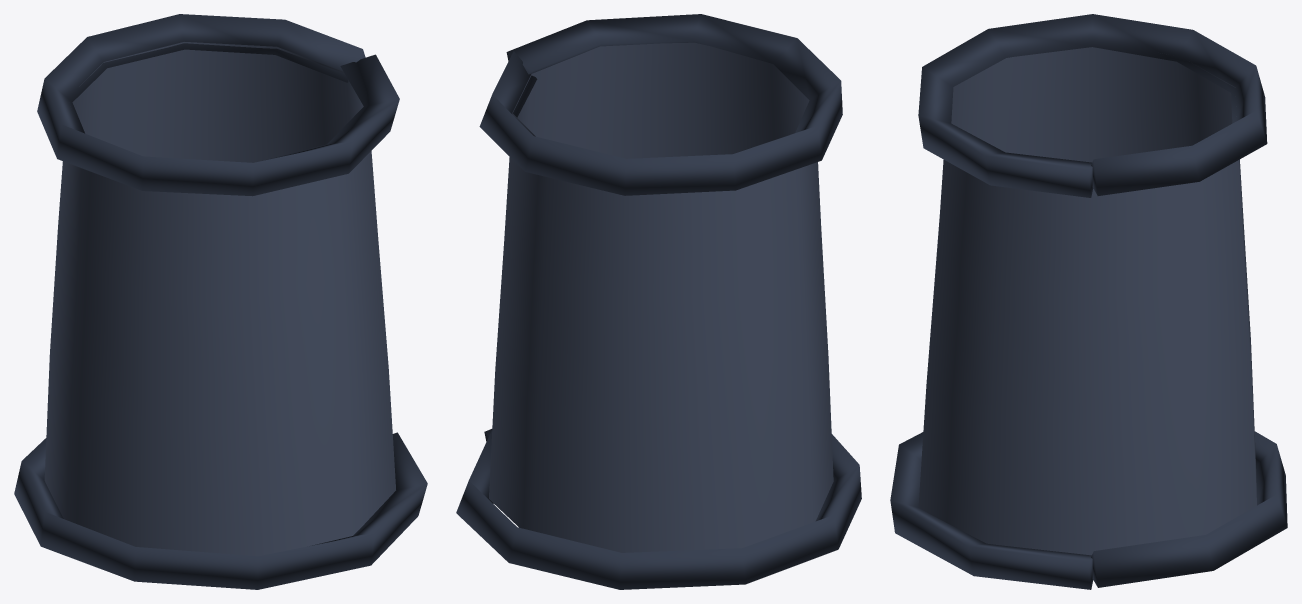
Rendered from lead_armor_bracer.R.glb.
3 views of the same model, side by side, from view 1: azimuth 30°, elevation 25°; view 2: azimuth 150°, elevation 25°; view 3: azimuth 270°, elevation 25° (orthographic).
Parts seen in each view (by area): view 1: lead_armor_bracer.R; view 2: lead_armor_bracer.R; view 3: lead_armor_bracer.R.
Boxes of the visible parts, <box> form: lead_armor_bracer.R: <box>14,14,427,589</box>; lead_armor_bracer.R: <box>456,14,861,589</box>; lead_armor_bracer.R: <box>890,14,1287,589</box>.
Bounding box in the file's own units: 0.1516 × 0.1719 × 0.1476.
